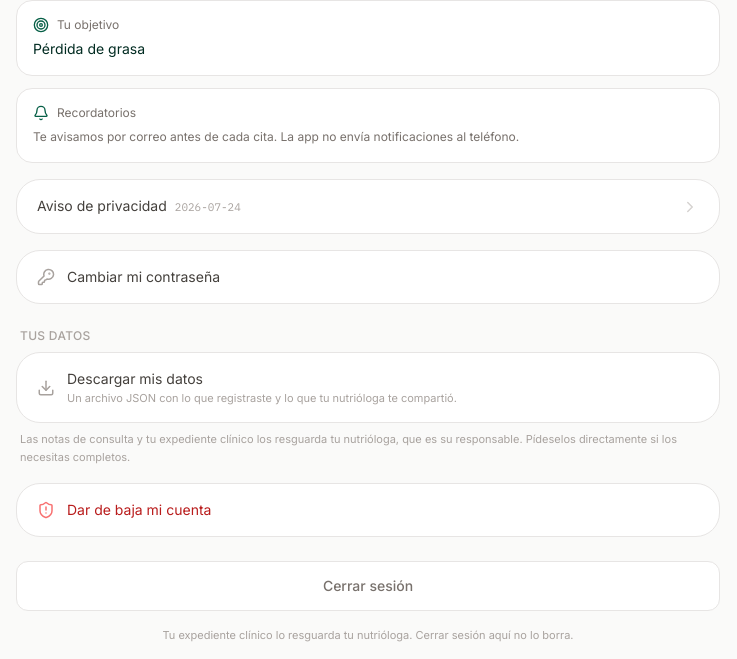
derechos ARCO › explica qué se va y qué se queda antes de pedir la contraseña
(page scrolled)
Click the button "Dar de baja mi cuenta" at (139, 509), box [16, 483, 720, 537]
(page scrolled)
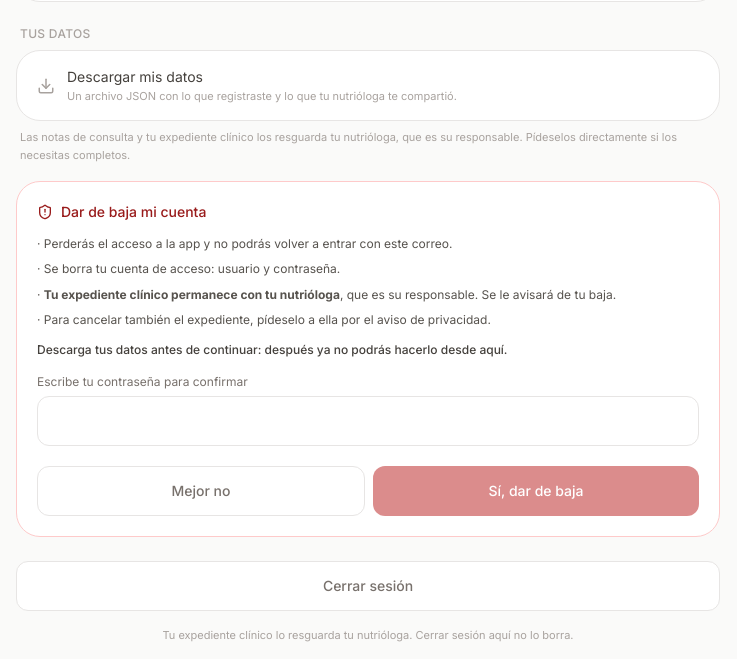
Result: the text "Tu expediente clínico permanece con tu nutrióloga" is shown at [44, 287, 340, 302]
Result: the password field labelled "Escribe tu contraseña para confirmar" is shown at [37, 396, 699, 446]
